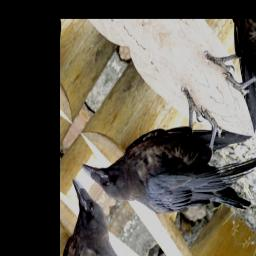Crow: (79, 40, 256, 256)
